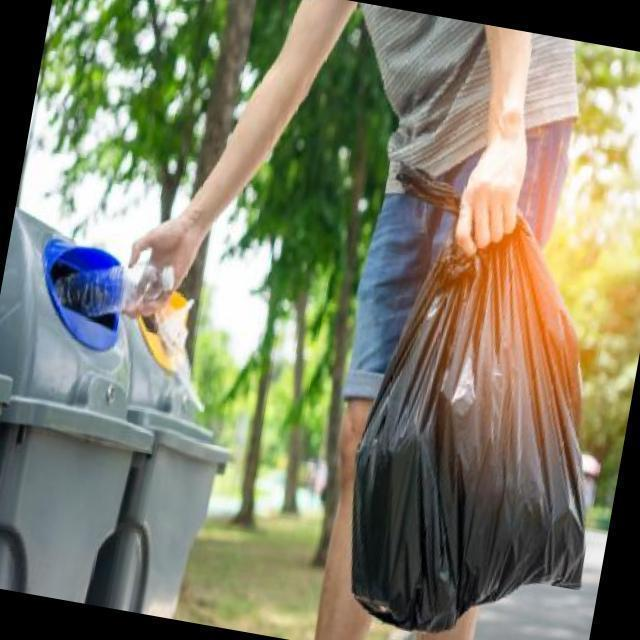Garbage_Bag: (314, 161, 640, 640)
